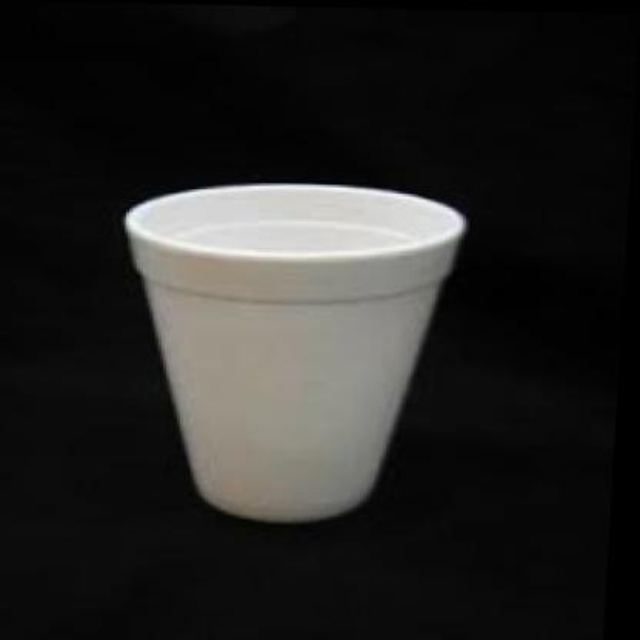trash: (126, 185, 463, 522)
